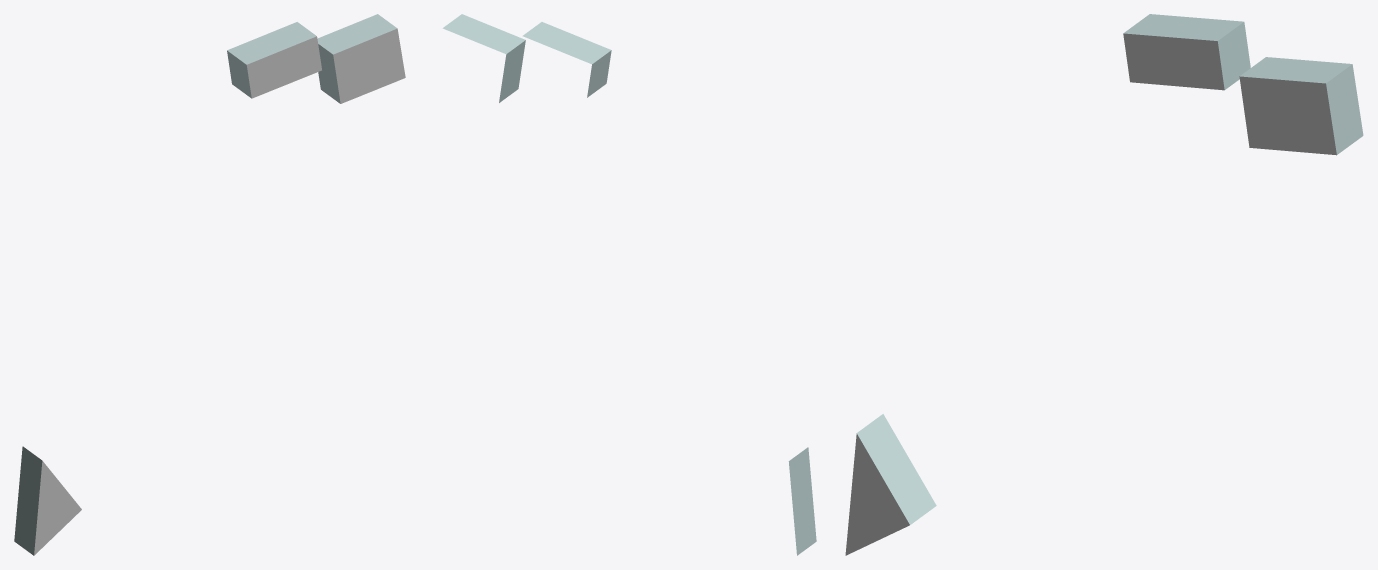
3 renders of one model, left to right at view 1: azimuth 30°, elevation 25°; view 2: azimuth 150°, elevation 25°; view 3: azimuth 330°, elevation 25°, orthographic. The views are drawn at different scales.
Parts seen in each view (by area): view 1: 0_2_2_1_0_0_2_1_2; view 2: 0_2_2_1_0_0_2_1_2; view 3: 0_2_2_1_0_0_2_1_2.
Boxes of the visible parts, x1,y1,x2,y2 form: 0_2_2_1_0_0_2_1_2: (14, 14, 405, 555); 0_2_2_1_0_0_2_1_2: (442, 14, 816, 555); 0_2_2_1_0_0_2_1_2: (845, 14, 1363, 555).
Size of the model in its own units: 32.28 by 37.95 by 3.46.
